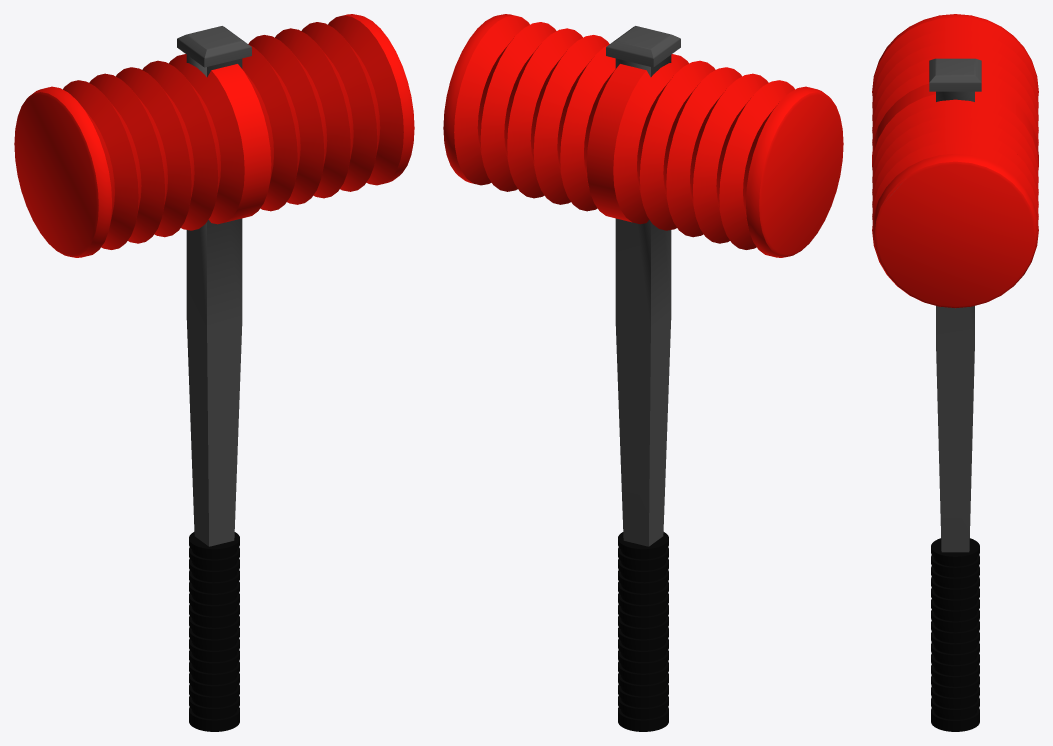
Rendered from SqueakyHammer.fbx.
3 renders of one model, left to right at view 1: azimuth 30°, elevation 25°; view 2: azimuth 150°, elevation 25°; view 3: azimuth 270°, elevation 25°, orthographic. The views are drawn at different scales.
Parts seen in each view (by area): view 1: SqueakyHammerMesh; view 2: SqueakyHammerMesh; view 3: SqueakyHammerMesh.
Boxes of the visible parts, x1=… form: SqueakyHammerMesh: x1=14, y1=14, x2=414, y2=731; SqueakyHammerMesh: x1=443, y1=14, x2=843, y2=731; SqueakyHammerMesh: x1=872, y1=14, x2=1038, y2=731.
Bounding box in the file's own units: 28.22 × 122 × 59.58.
